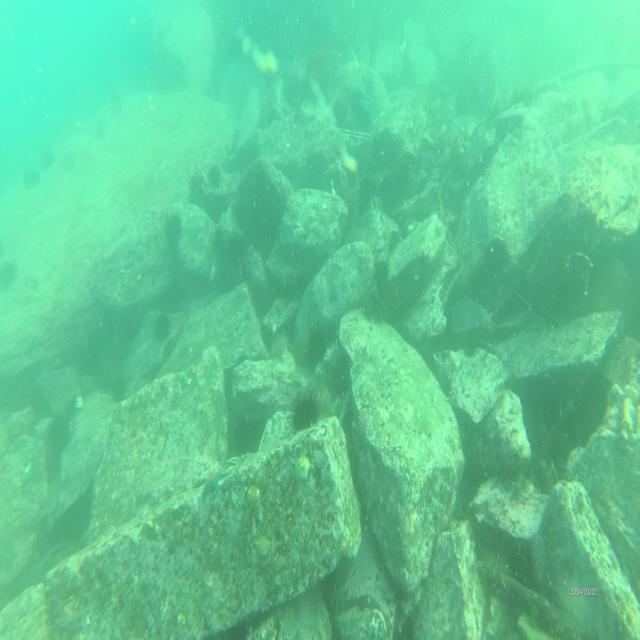echinus: (288, 394, 324, 441), (186, 172, 208, 208), (206, 157, 224, 196), (153, 309, 174, 340), (166, 214, 183, 252), (0, 256, 16, 293), (22, 165, 40, 194), (59, 149, 77, 178), (106, 88, 125, 114), (94, 114, 110, 138), (38, 145, 54, 167)
scallop: (244, 478, 262, 512), (293, 452, 311, 483)
starfish: (201, 469, 227, 503)
